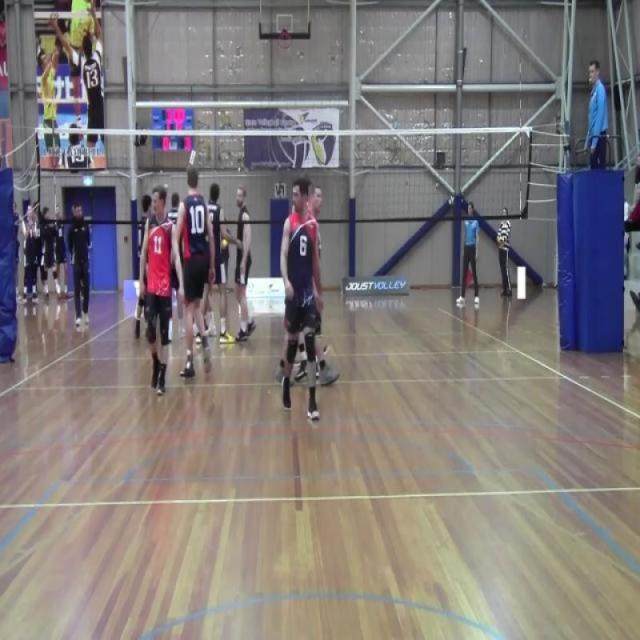volleyball: (220, 234, 228, 252)
